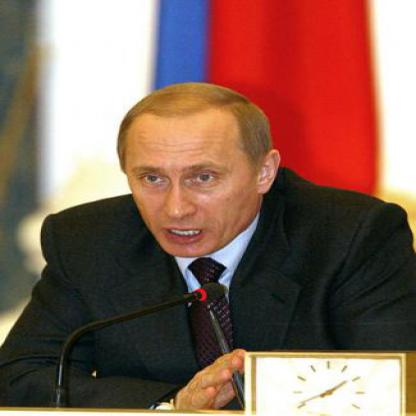face: (122, 87, 261, 261)
